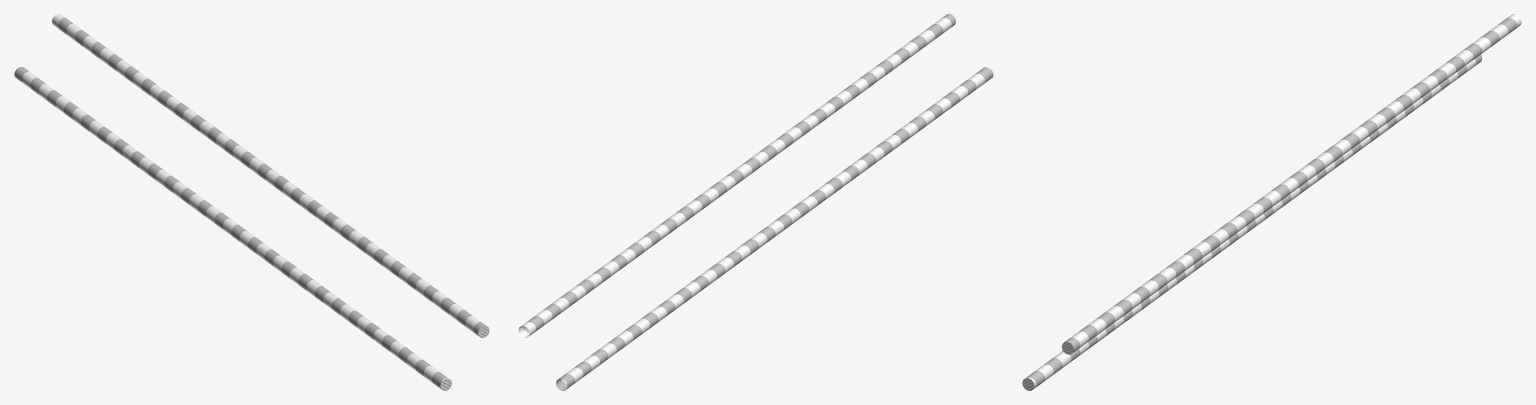
File: Rail_Left_Long_Mid.fbx
3 renders of one model, left to right at view 1: azimuth 30°, elevation 25°; view 2: azimuth 150°, elevation 25°; view 3: azimuth 330°, elevation 25°, orthographic. The views are drawn at different scales.
Visible parts, largest first — view 1: Rail_Left_Long_Mid; view 2: Rail_Left_Long_Mid; view 3: Rail_Left_Long_Mid.
Part boxes in pixels (bbox=[...]): Rail_Left_Long_Mid: bbox=[14, 14, 489, 390]; Rail_Left_Long_Mid: bbox=[518, 14, 993, 390]; Rail_Left_Long_Mid: bbox=[1022, 14, 1521, 390].
Bounding box in the file's own units: 33.35 × 500 × 36.23.
1 material, 1 textured.
